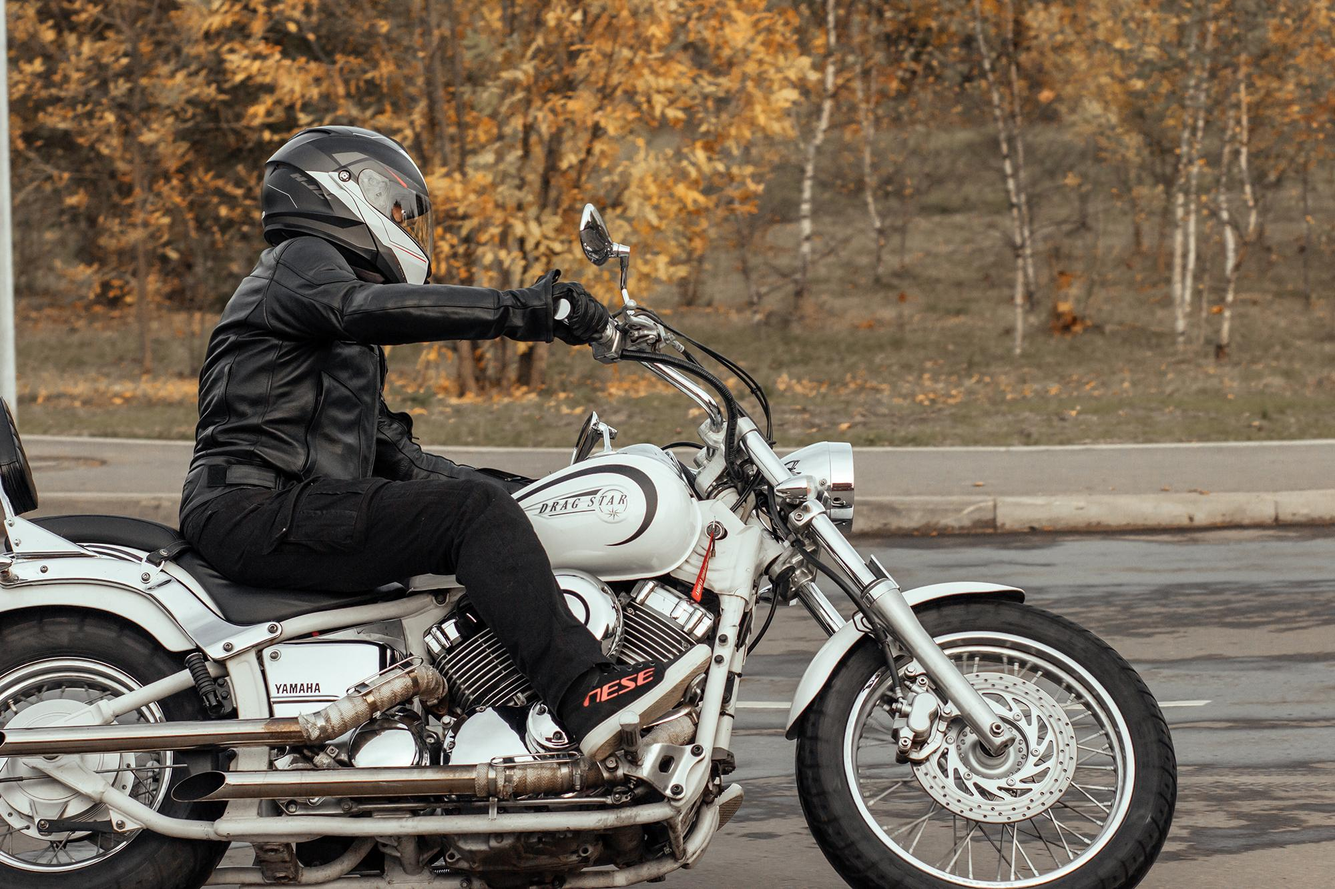helmet: (260, 124, 435, 304)
